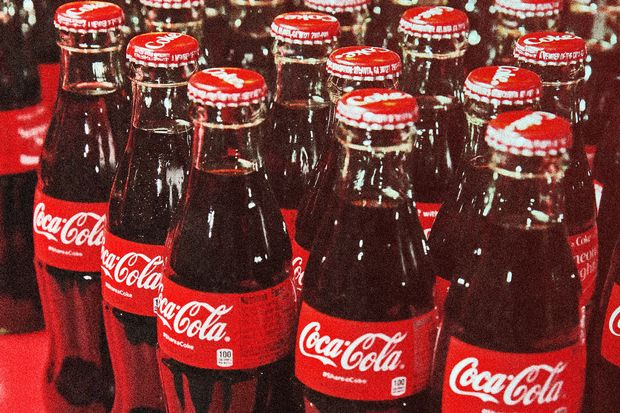Coca-Cola: (33, 15, 112, 407)
Copy of Coca-Cola: (104, 20, 182, 413)
Copy of Copy of Coca-Cola: (180, 70, 278, 412)
Copy of Copy of Copy of Coca-Cola: (297, 84, 437, 413)
Copy of Copy of Copy of Copy of Coca-Cola: (445, 96, 596, 413)
